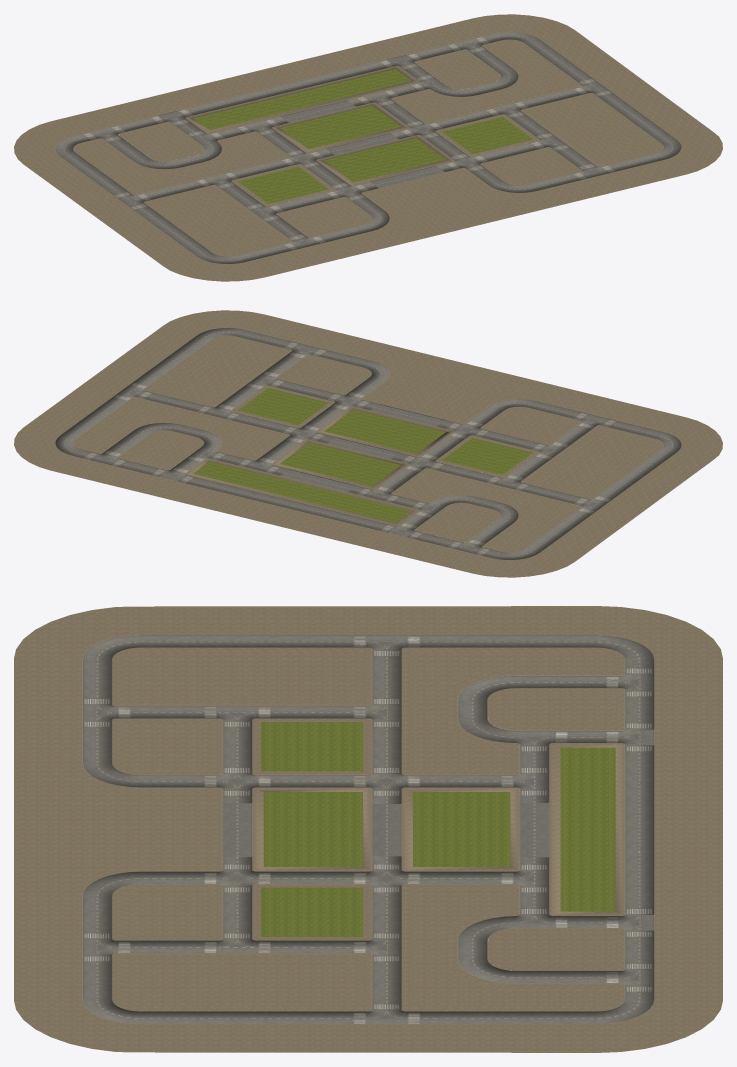
File: Puppy_Simulation_Road_1.FBX
The picture shows the model from 3 angles, top to bottom: view 1: azimuth 30°, elevation 25°; view 2: azimuth 150°, elevation 25°; view 3: azimuth 270°, elevation 25°; orthographic projection. The views are drawn at different scales.
Parts seen in each view (by area): view 1: Object002, Line019, Line025; view 2: Object002, Line019, Line025; view 3: Object002, Line019, Line025.
Part boxes in pixels (<box>): Object002: <box>14,14,722,281</box>; Line019: <box>79,42,657,253</box>; Line025: <box>55,31,681,264</box>; Object002: <box>14,310,722,577</box>; Line019: <box>79,338,657,549</box>; Line025: <box>55,327,681,560</box>; Object002: <box>14,606,722,1052</box>; Line019: <box>123,652,615,1006</box>; Line025: <box>82,635,654,1024</box>.
Size of the model in its own units: 311 by 0.2105 by 208.
Materials: 4 (4 with a texture image).
